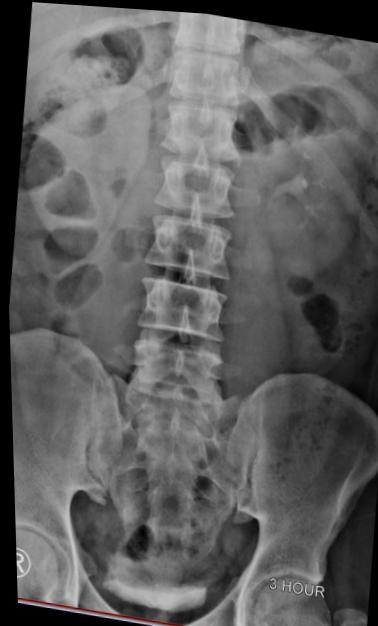bladder: (90, 541, 214, 625)
left kidney: (227, 61, 377, 290)
right kidney: (9, 62, 160, 271)
vertebrae: (153, 93, 250, 166)
